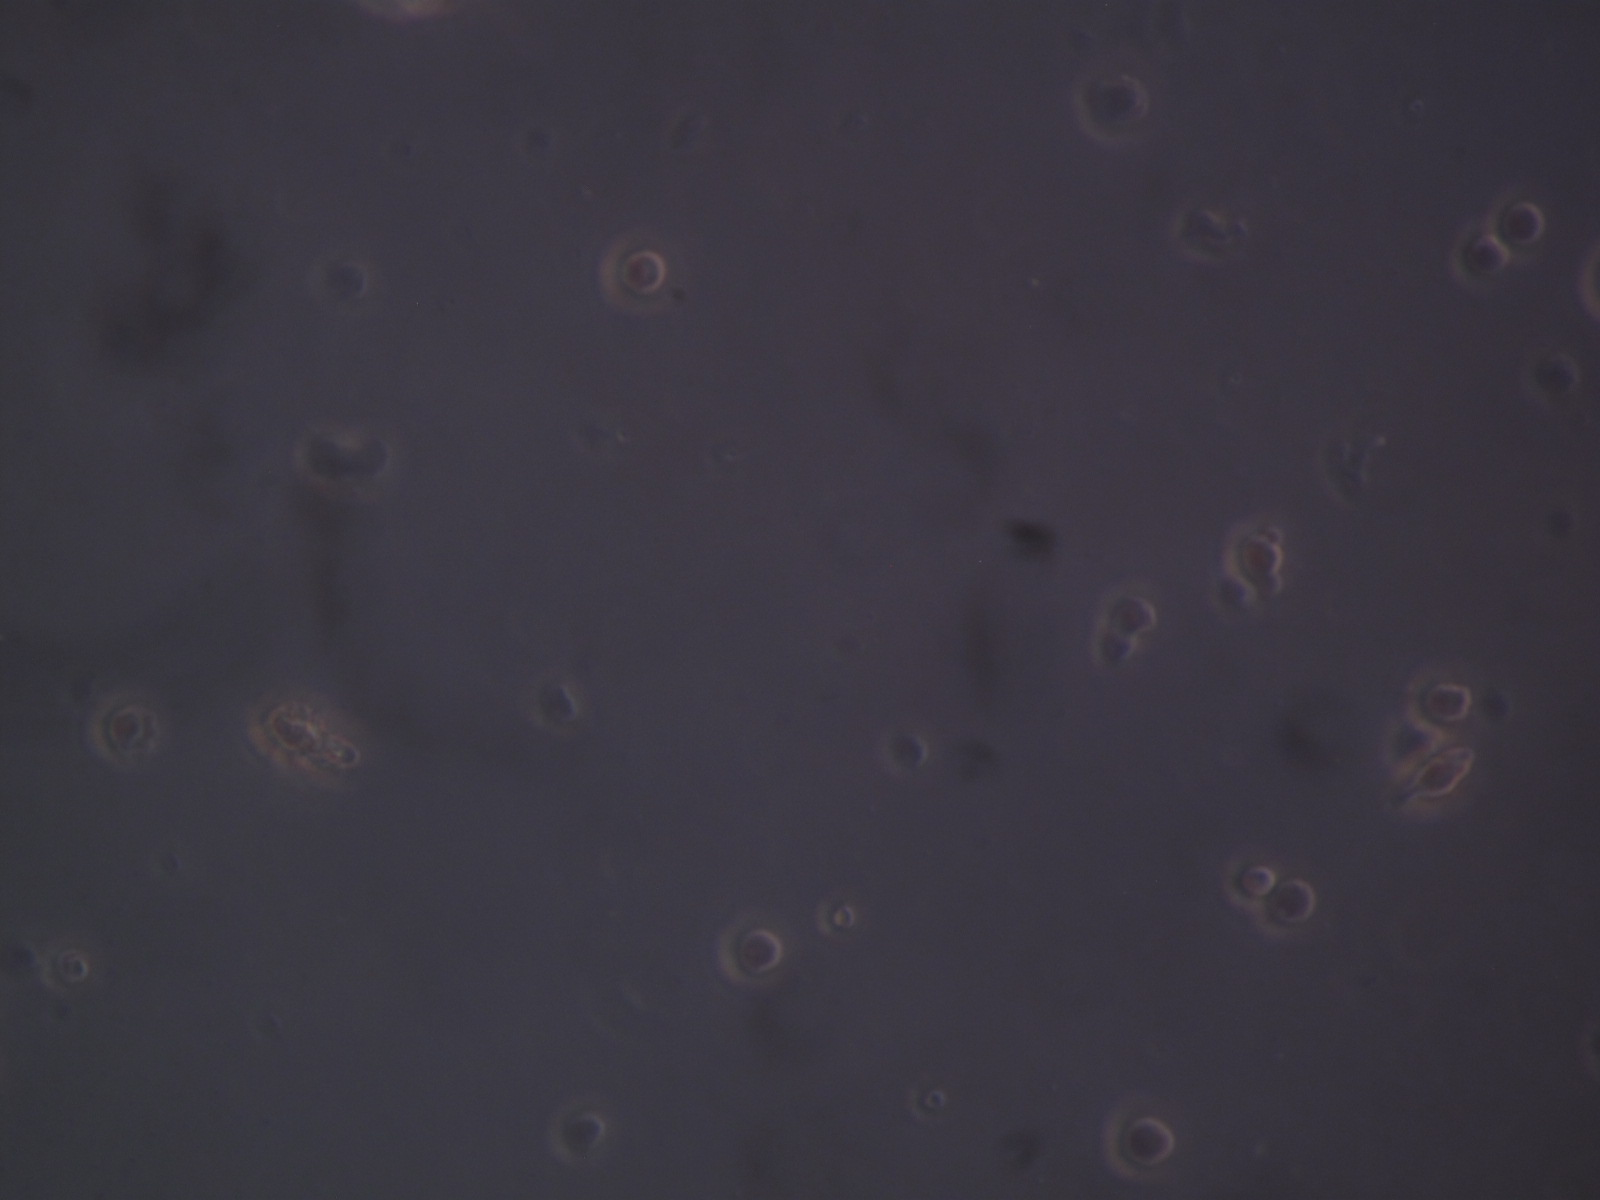hemo: (595, 237, 673, 316), (1402, 747, 1480, 818), (1102, 1105, 1174, 1179), (1073, 79, 1148, 149), (716, 918, 786, 989), (1405, 663, 1475, 731), (91, 698, 159, 766), (1380, 712, 1443, 782), (1450, 224, 1511, 291), (1489, 189, 1545, 258), (1254, 877, 1318, 937), (1222, 518, 1283, 579), (547, 1103, 603, 1166), (1097, 585, 1162, 638), (1222, 861, 1277, 913), (42, 942, 89, 995), (1086, 624, 1135, 666), (907, 1075, 947, 1124), (815, 896, 855, 939)
